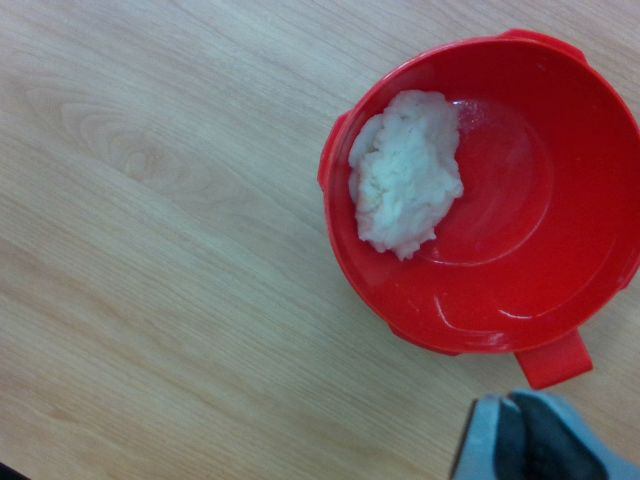mashed_potato: (349, 90, 465, 261)
